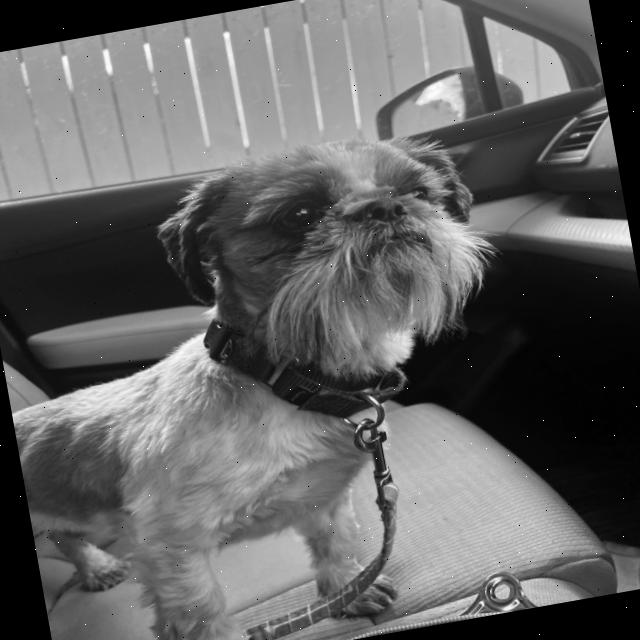shih_tzu_dog: (137, 96, 528, 429)
